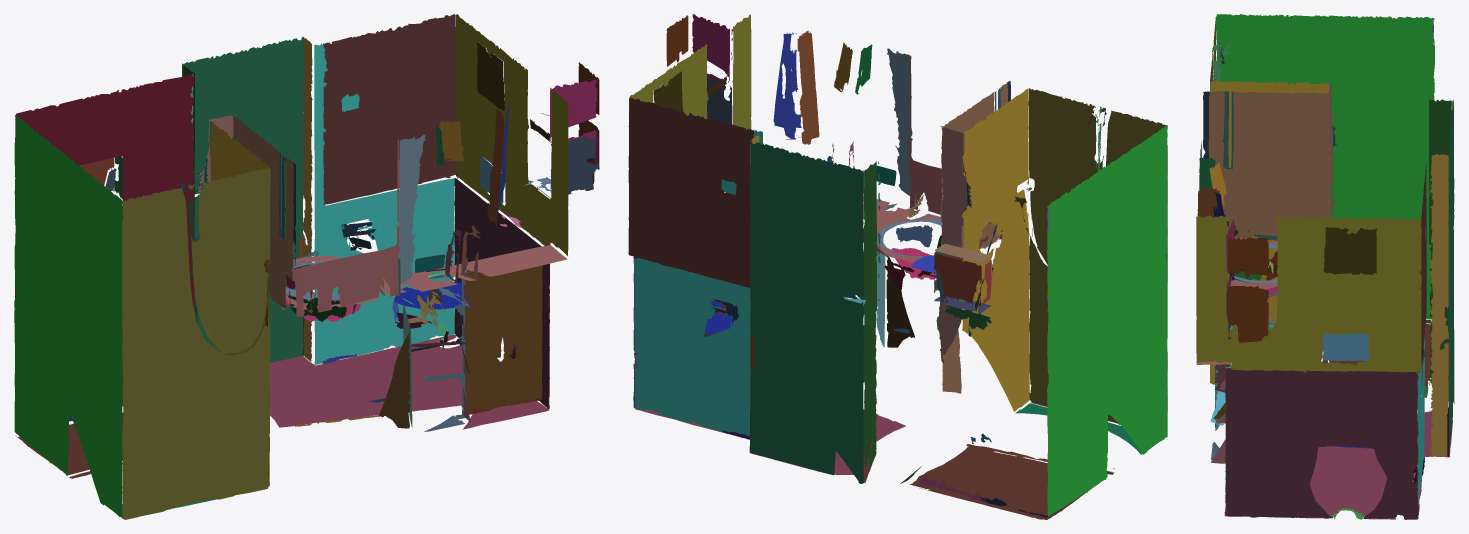
The picture shows the model from 3 angles, left to right: view 1: azimuth 30°, elevation 25°; view 2: azimuth 150°, elevation 25°; view 3: azimuth 270°, elevation 25°; orthographic projection. The views are drawn at different scales.
Parts seen in each view (by area): view 1: planes_mesh_vis-lean; view 2: planes_mesh_vis-lean; view 3: planes_mesh_vis-lean.
Part boxes in pixels (left/top/right/bottom): planes_mesh_vis-lean: left=14, top=14, right=599, bottom=519; planes_mesh_vis-lean: left=628, top=14, right=1167, bottom=519; planes_mesh_vis-lean: left=1196, top=14, right=1454, bottom=519.
Size of the model in its own units: 2.85 by 1.83 by 1.38.
